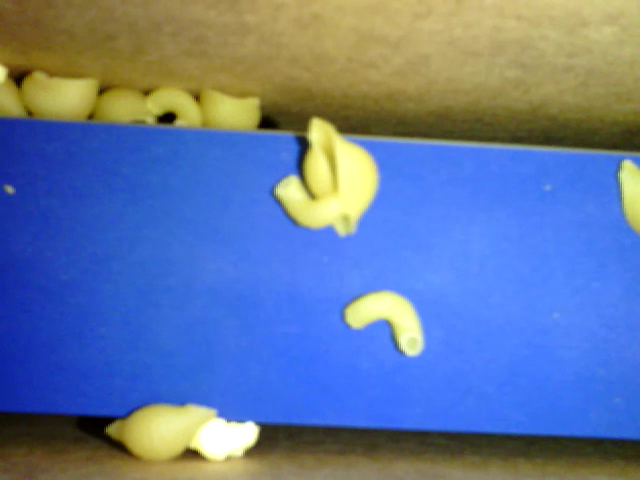elbow: (344, 289, 425, 358), (275, 174, 342, 230), (146, 87, 203, 125)
shell: (302, 116, 380, 236), (104, 403, 219, 462), (19, 71, 100, 120), (199, 88, 264, 130), (94, 87, 157, 126)
